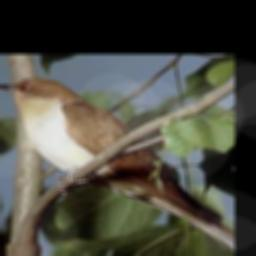Cuckoo: (0, 75, 234, 248)
